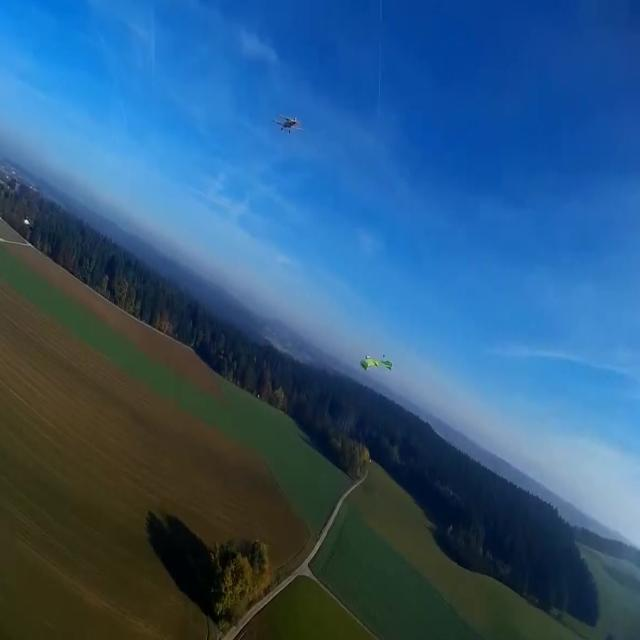iha: (272, 48, 304, 71), (360, 353, 393, 373)
